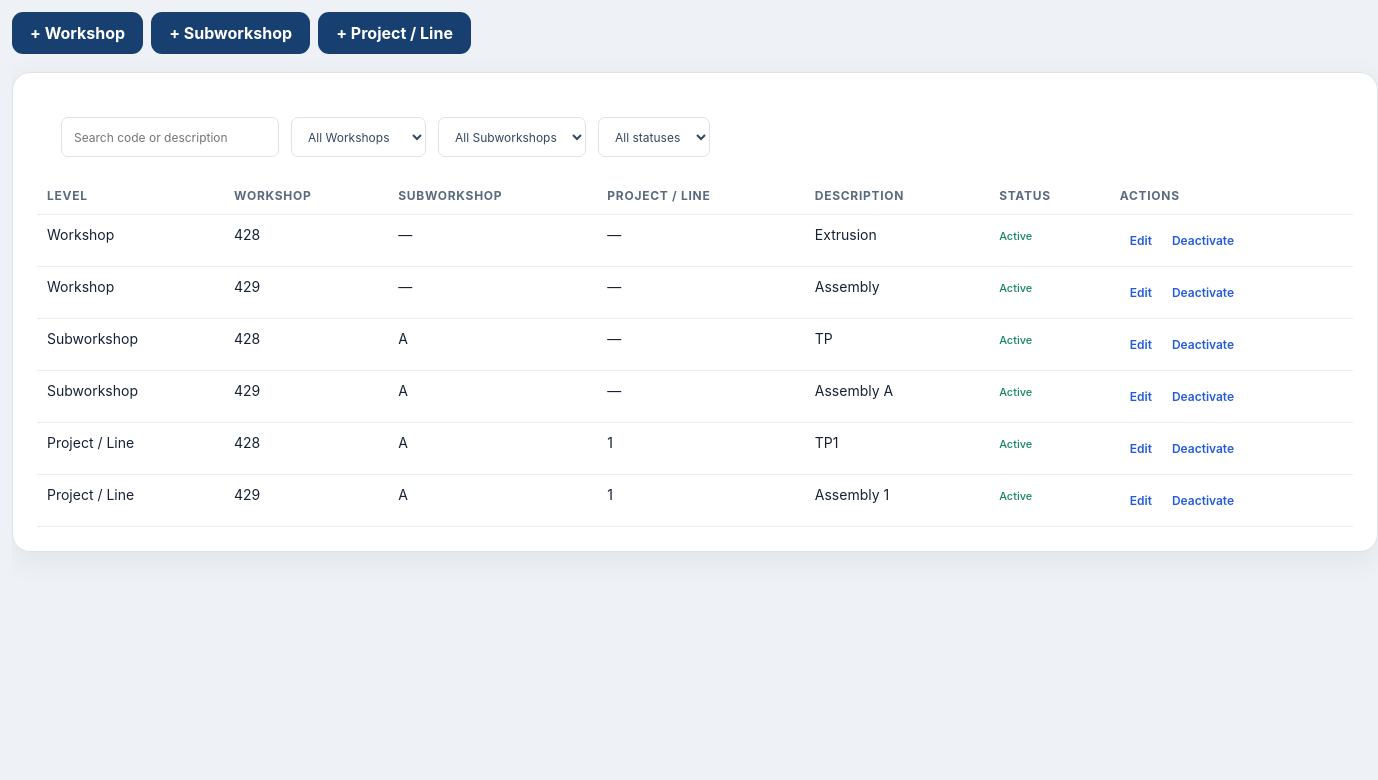
it: Admin Structure › renders scoped duplicate codes and filters by Workshop
Expected: the text "TP1" is shown once, left=805, top=422, right=989, bottom=474
Expected: the text "1" is shown 2 times, left=597, top=422, right=805, bottom=474; left=597, top=474, right=805, bottom=526
Select "428 · Extrusion" in the dropdown named "Filter Workshop" at x=358, y=137, box left=291, top=117, right=426, bottom=157
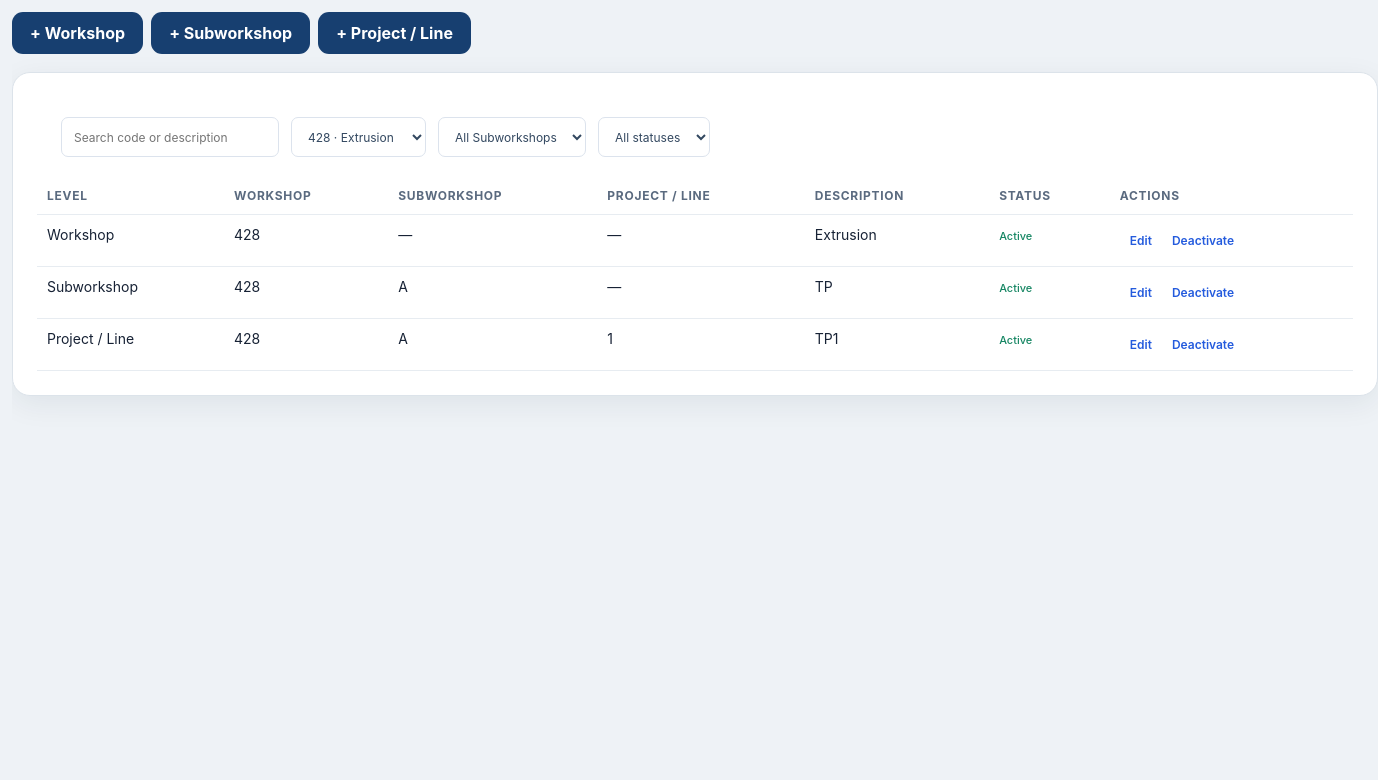
Expected: the text "1" is shown once, left=597, top=318, right=805, bottom=370
Expected: the text "Assembly 1" is gone
